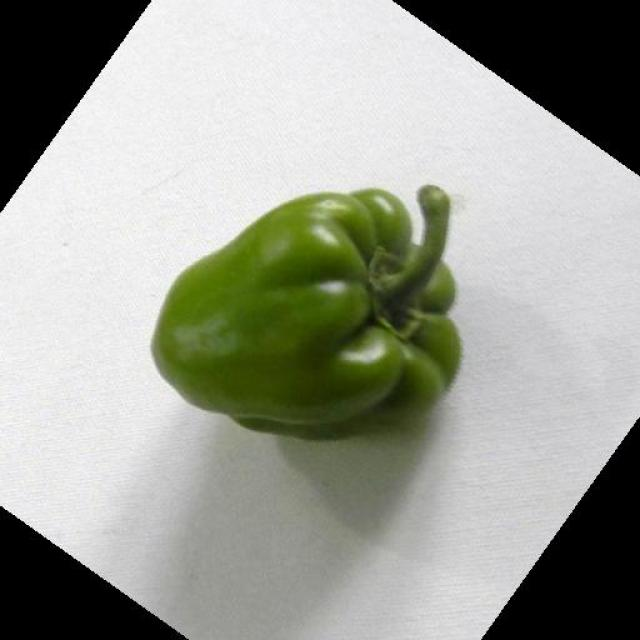Fresh_Capsicum: (156, 210, 494, 440)
